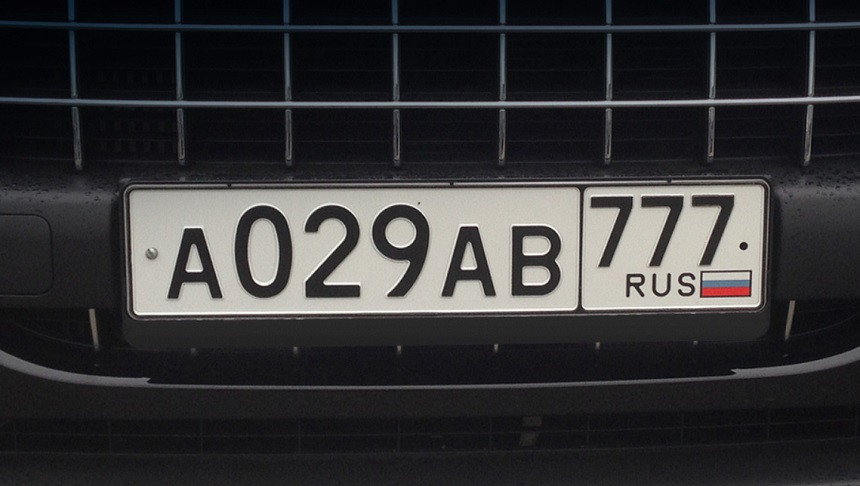number_plate: (137, 182, 768, 314)
